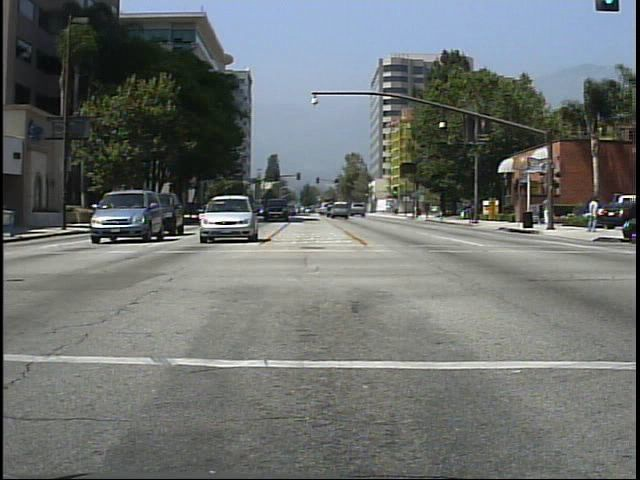person: (535, 193, 555, 235), (584, 196, 602, 234)
